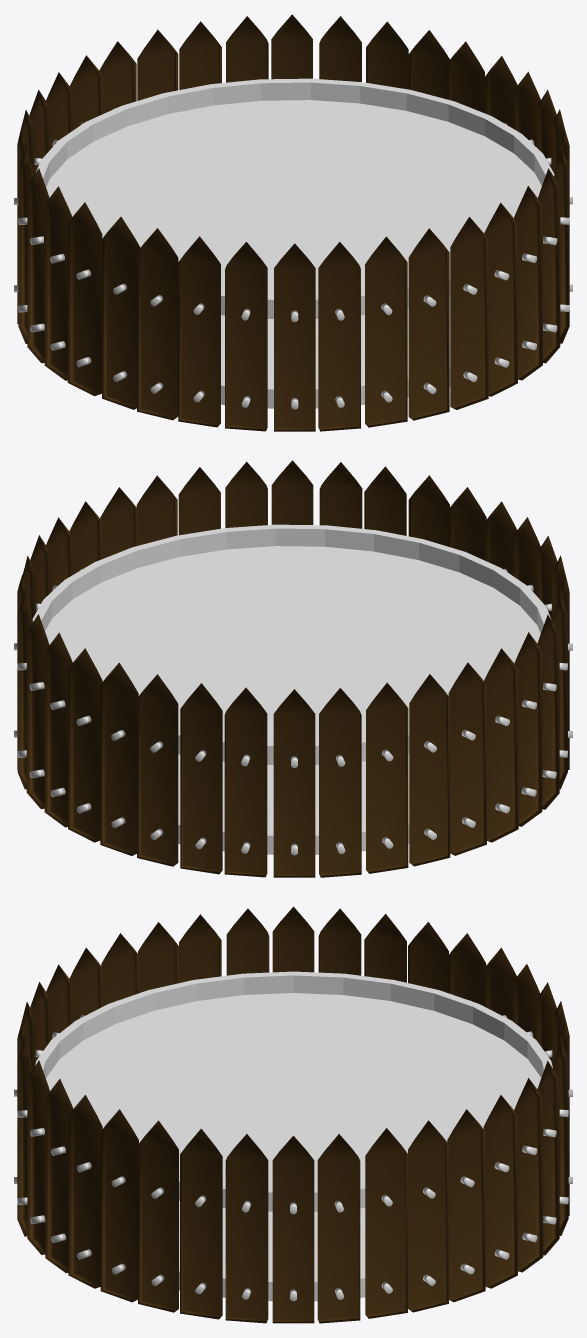
File: torre - Cópia.fbx
The picture shows the model from 3 angles, top to bottom: view 1: azimuth 30°, elevation 25°; view 2: azimuth 150°, elevation 25°; view 3: azimuth 270°, elevation 25°; orthographic projection.
Parts seen in each view (by area): view 1: Cylinder, Cube.021, Cube.019, Cube.022, Cube.018, Cube.020, Cube.023, Cube.017, Cube.016, Cube.024, Cube.025, Cube.015 (+24 smaller); view 2: Cylinder, Cube.033, Cube.032, Cube.031, Cube.034, Cube.030, Cube.029, Cube.035, Cube, Cube.028, Cube.001, Cube.027 (+24 smaller); view 3: Cylinder, Cube.007, Cube.009, Cube.008, Cube.010, Cube.006, Cube.011, Cube.005, Cube.012, Cube.004, Cube.003, Cube.013 (+25 smaller).
Boxes of the visible parts, x1=… form: Cylinder: x1=36, y1=78, x2=554, y2=318; Cube.021: x1=225, y1=241, x2=267, y2=431; Cube.019: x1=318, y1=242, x2=360, y2=431; Cube.022: x1=178, y1=236, x2=220, y2=427; Cube.018: x1=365, y1=236, x2=407, y2=427; Cube.020: x1=274, y1=243, x2=315, y2=431; Cube.023: x1=137, y1=228, x2=178, y2=420; Cube.017: x1=408, y1=228, x2=449, y2=420; Cube.016: x1=450, y1=216, x2=488, y2=409; Cube.024: x1=102, y1=216, x2=140, y2=409; Cube.025: x1=67, y1=202, x2=102, y2=396; Cube.015: x1=484, y1=202, x2=517, y2=396; Cylinder: x1=32, y1=524, x2=551, y2=764; Cube.033: x1=224, y1=687, x2=267, y2=877; Cube.032: x1=273, y1=689, x2=315, y2=877; Cube.031: x1=319, y1=688, x2=361, y2=877; Cube.034: x1=180, y1=683, x2=222, y2=874; Cube.030: x1=366, y1=682, x2=408, y2=873; Cube.029: x1=409, y1=674, x2=450, y2=866; Cube.035: x1=137, y1=674, x2=178, y2=866; Cube: x1=100, y1=662, x2=138, y2=855; Cube.028: x1=448, y1=662, x2=486, y2=855; Cube.001: x1=68, y1=648, x2=102, y2=842; Cube.027: x1=484, y1=648, x2=518, y2=842; Cylinder: x1=35, y1=971, x2=552, y2=1211; Cube.007: x1=317, y1=1134, x2=360, y2=1323; Cube.009: x1=225, y1=1134, x2=268, y2=1323; Cube.008: x1=272, y1=1136, x2=314, y2=1323; Cube.010: x1=180, y1=1128, x2=222, y2=1319; Cube.006: x1=365, y1=1128, x2=407, y2=1318; Cube.011: x1=138, y1=1120, x2=178, y2=1312; Cube.005: x1=408, y1=1120, x2=448, y2=1312; Cube.012: x1=100, y1=1109, x2=138, y2=1302; Cube.004: x1=447, y1=1109, x2=485, y2=1302; Cube.003: x1=483, y1=1095, x2=517, y2=1288; Cube.013: x1=68, y1=1095, x2=102, y2=1288.
Size of the model in its own units: 830 by 306 by 832.
